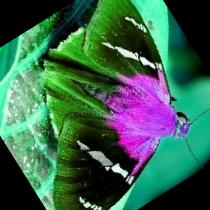butterfly: (44, 0, 190, 210)
